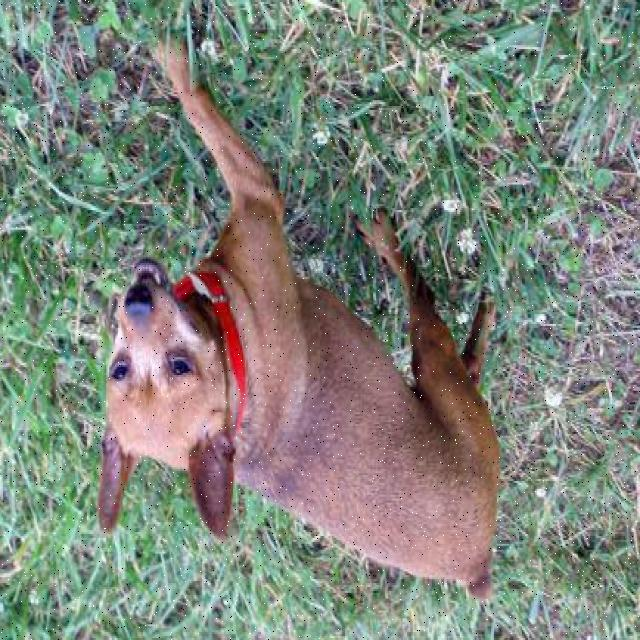Dog: (93, 255, 240, 562)
